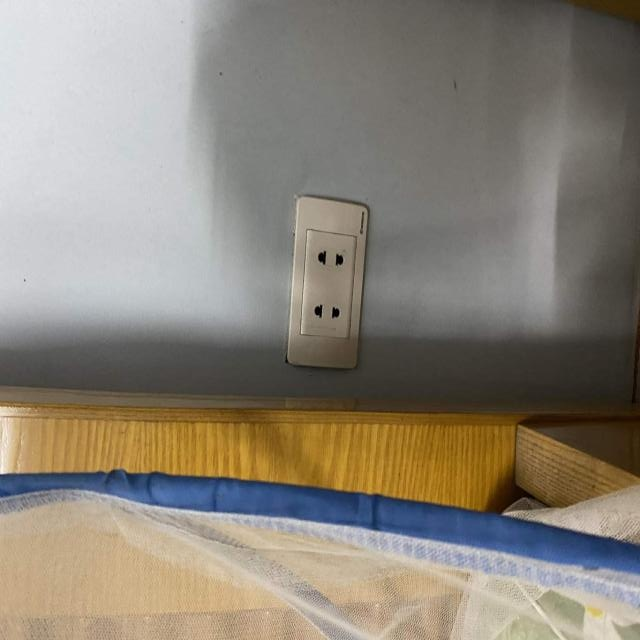outlet: (286, 195, 369, 370)
